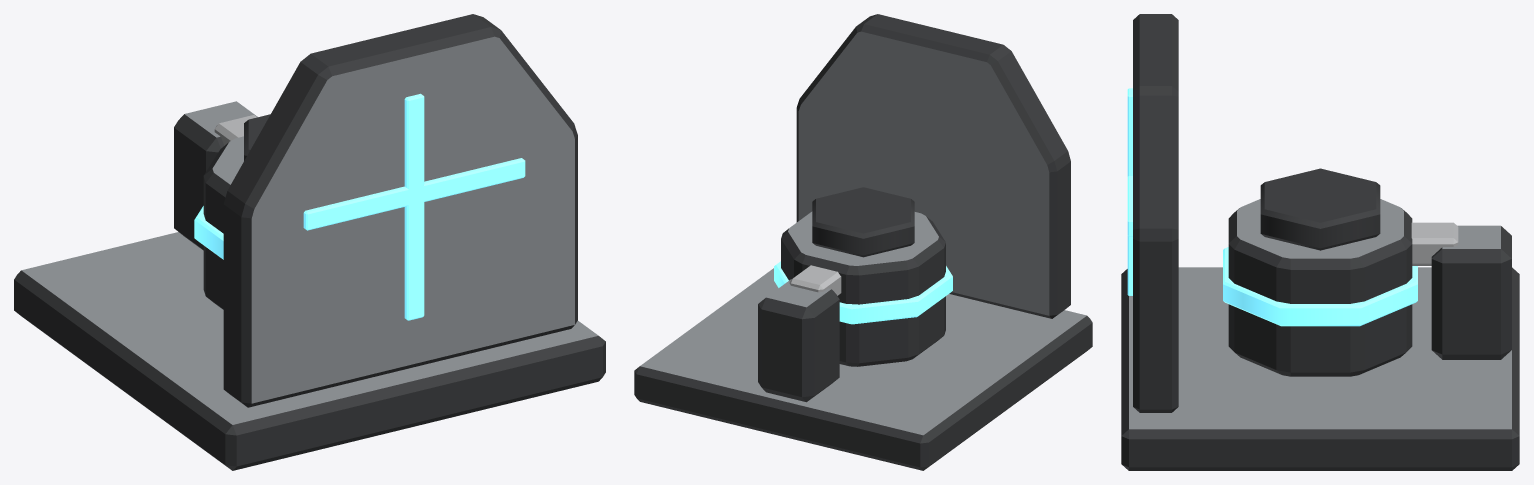
File: R4X_DefensiveTurretDeployer_LOD1.fbx
3 views of the same model, side by side, from view 1: azimuth 30°, elevation 25°; view 2: azimuth 150°, elevation 25°; view 3: azimuth 270°, elevation 25° (orthographic). The views are drawn at different scales.
Visible parts, largest first — view 1: R4X_DefensiveTurretDeployer_LOD1; view 2: R4X_DefensiveTurretDeployer_LOD1; view 3: R4X_DefensiveTurretDeployer_LOD1.
Boxes of the visible parts, <box> form: R4X_DefensiveTurretDeployer_LOD1: <box>14,14,605,470</box>; R4X_DefensiveTurretDeployer_LOD1: <box>634,14,1092,470</box>; R4X_DefensiveTurretDeployer_LOD1: <box>1121,14,1519,470</box>.
Size of the model in its own units: 0.52 by 0.49 by 0.52.
